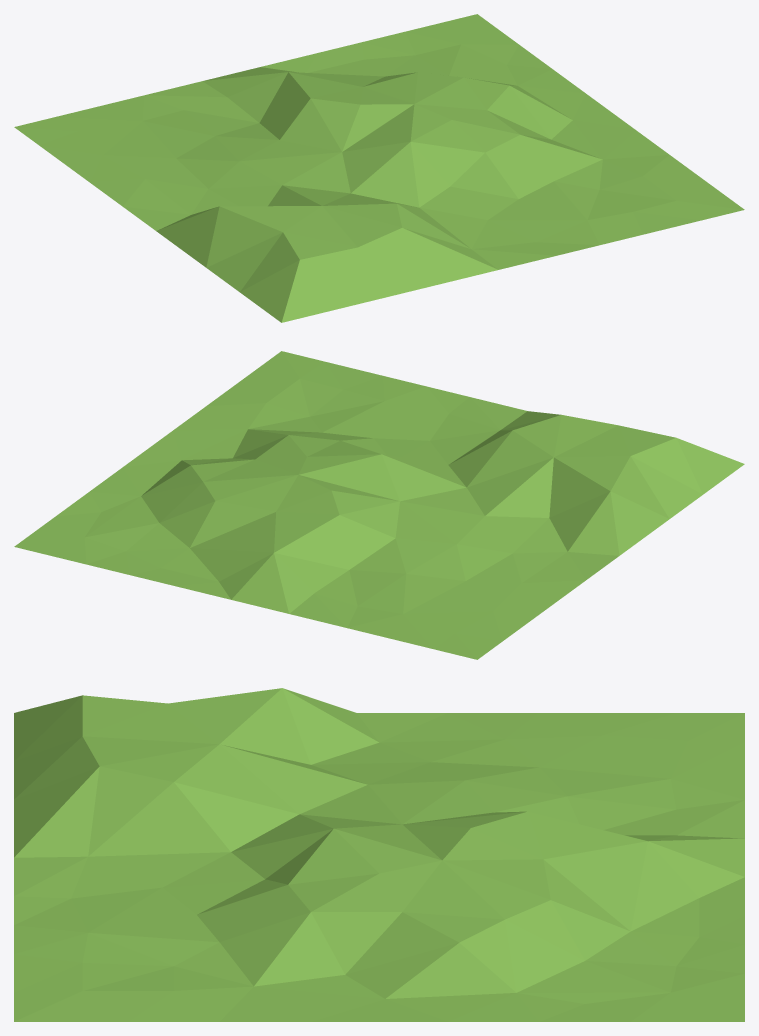
Rendered from MT_Terrain_S_c_23_LOD.fbx.
3 renders of one model, top to bottom at view 1: azimuth 30°, elevation 25°; view 2: azimuth 150°, elevation 25°; view 3: azimuth 270°, elevation 25°, orthographic. The views are drawn at different scales.
Visible parts, largest first — view 1: MT_Terrain_S_c_23_LOD0; view 2: MT_Terrain_S_c_23_LOD0; view 3: MT_Terrain_S_c_23_LOD0.
Part boxes in pixels (bbox=[...]): MT_Terrain_S_c_23_LOD0: bbox=[14, 14, 744, 322]; MT_Terrain_S_c_23_LOD0: bbox=[14, 351, 744, 659]; MT_Terrain_S_c_23_LOD0: bbox=[14, 688, 744, 1021].
Size of what is drawn, in the model's own units: 2500 by 194 by 2500.
